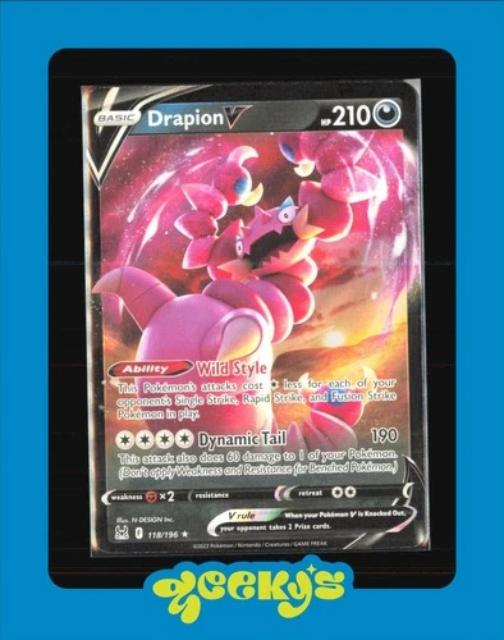Card: (84, 79, 433, 557)
Name: (142, 100, 255, 129)
